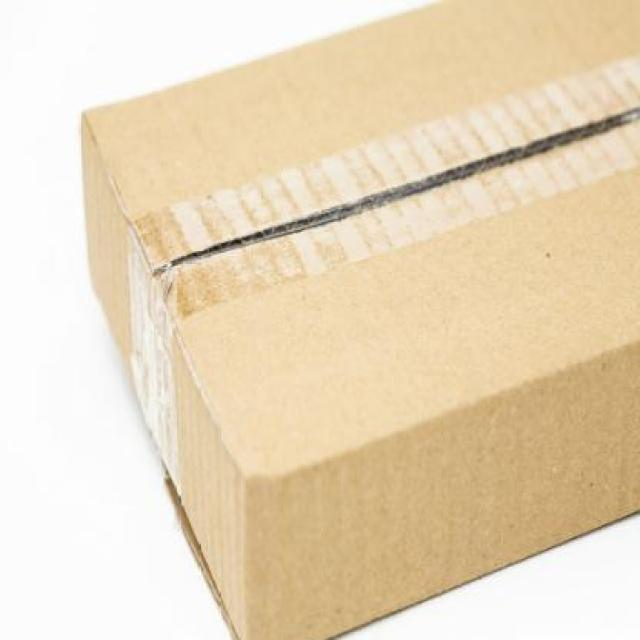box: (60, 0, 638, 640)
